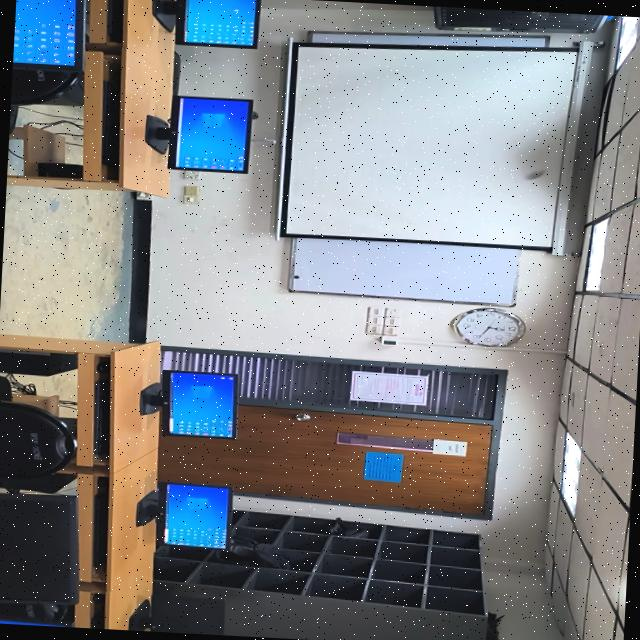Chair: (0, 375, 80, 481), (9, 66, 82, 142)
Cpu: (0, 345, 76, 376)
Light: (584, 216, 614, 293), (558, 434, 584, 516), (616, 15, 640, 70)
Monitor: (0, 492, 84, 607), (146, 92, 258, 174), (137, 480, 237, 550), (146, 368, 240, 438), (153, 0, 265, 49), (13, 0, 85, 69), (128, 598, 228, 636)
